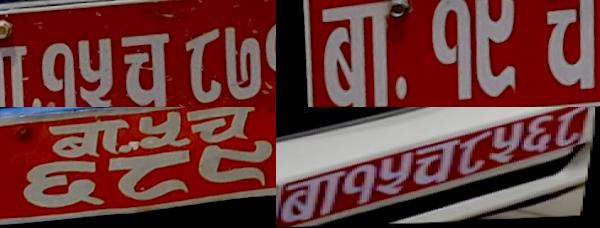1: (423, 0, 479, 107), (36, 34, 86, 107), (339, 165, 381, 206), (261, 21, 276, 107)
5: (74, 31, 125, 107), (134, 111, 193, 157), (377, 153, 417, 196), (486, 124, 526, 165)
6: (22, 157, 110, 216), (521, 117, 555, 154)
7: (220, 22, 269, 107)
8: (106, 149, 197, 206), (177, 25, 229, 107), (453, 132, 493, 176), (552, 109, 586, 146)
9: (468, 0, 531, 107), (194, 140, 276, 196)
ba: (311, 0, 418, 107), (45, 119, 133, 163), (281, 171, 346, 223), (0, 38, 40, 107)
cha: (532, 0, 600, 105), (115, 29, 178, 107), (185, 107, 260, 149), (409, 142, 459, 187)
